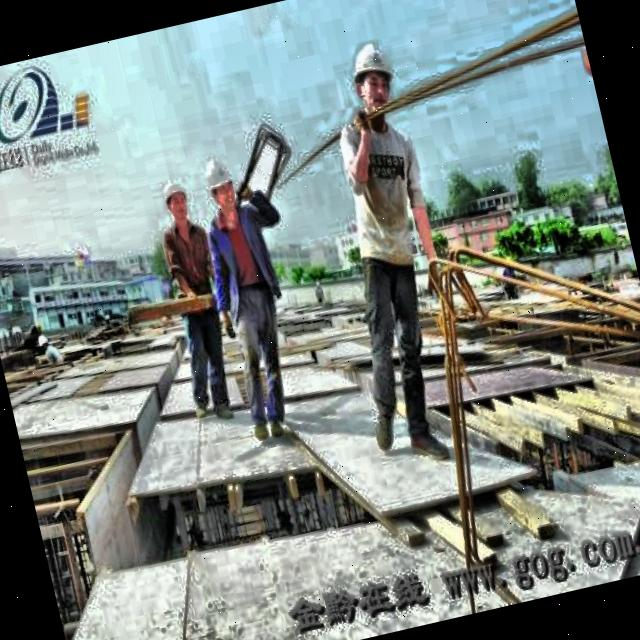helmet: (339, 28, 407, 128), (196, 152, 240, 224), (157, 177, 199, 230)
